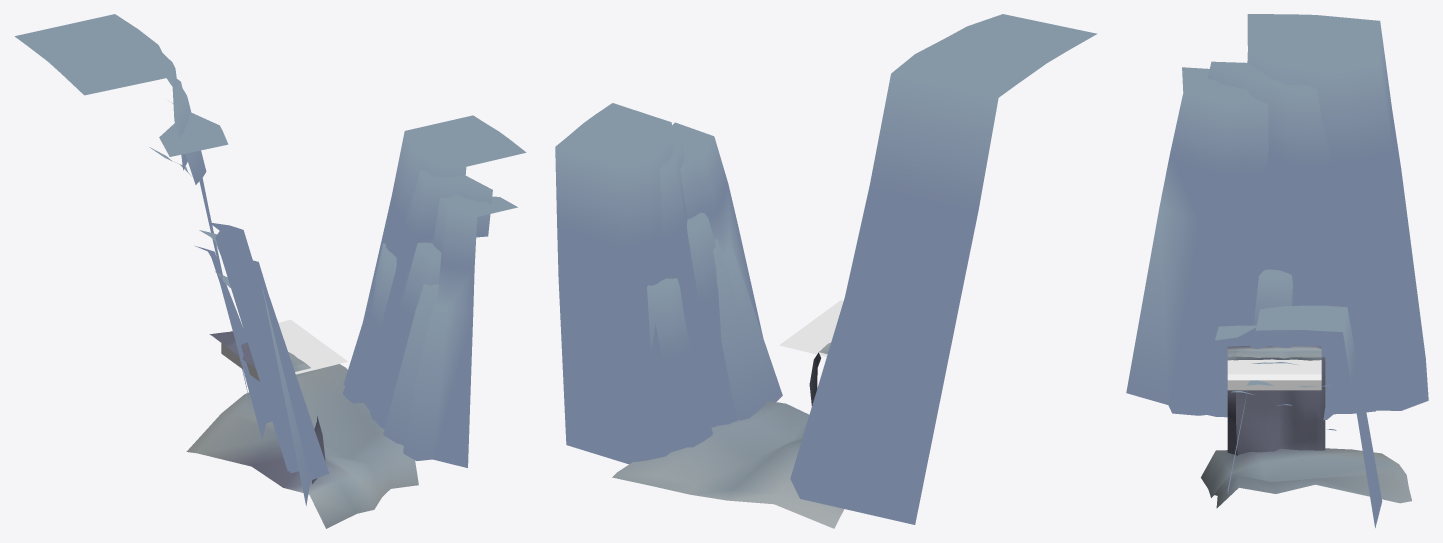
File: Arctic_Narrows_Right_Straight_Short_B.glb
3 renders of one model, left to right at view 1: azimuth 30°, elevation 25°; view 2: azimuth 150°, elevation 25°; view 3: azimuth 270°, elevation 25°, orthographic. The views are drawn at different scales.
Visible parts, largest first — view 1: Arctic_Narrows_Right_Straight_Short_A, inv_fill; view 2: Arctic_Narrows_Right_Straight_Short_A, inv_fill; view 3: Arctic_Narrows_Right_Straight_Short_A, inv_fill.
Part boxes in pixels (x1,y1,x2,y2): Arctic_Narrows_Right_Straight_Short_A: (14,14,526,528); inv_fill: (221,319,347,381); Arctic_Narrows_Right_Straight_Short_A: (555,14,1097,528); inv_fill: (779,300,843,356); Arctic_Narrows_Right_Straight_Short_A: (1126,14,1428,527); inv_fill: (1227,359,1321,390).
Size of what is drawn, in the model's own units: 22.43 by 22.33 by 16.1.
